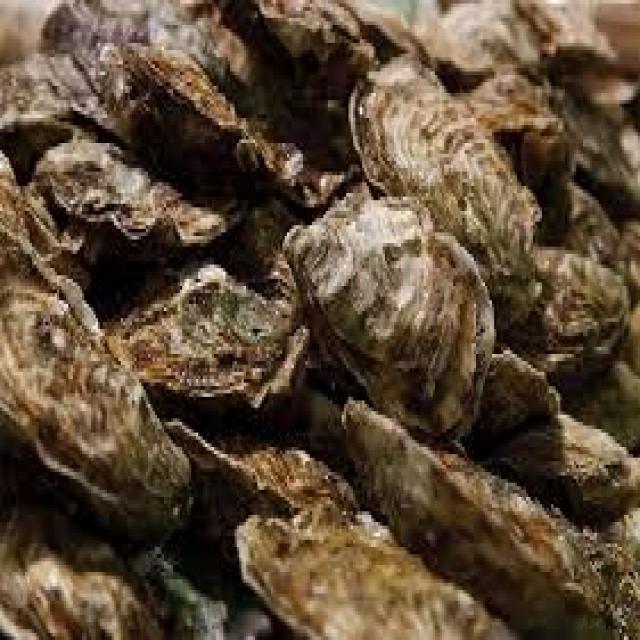Oyster- Indeterminate: (341, 400, 581, 631), (286, 185, 494, 437), (146, 386, 376, 558), (238, 515, 514, 640), (452, 241, 640, 410), (112, 260, 309, 408), (0, 475, 157, 640), (543, 81, 640, 188), (469, 349, 559, 456), (237, 194, 321, 308), (510, 0, 640, 64), (539, 172, 626, 261), (460, 70, 546, 143), (615, 218, 640, 290)
Oyster-Closed: (0, 268, 190, 538), (350, 58, 539, 274), (35, 129, 225, 246), (471, 411, 640, 531), (257, 0, 375, 103), (130, 45, 248, 137)
Oyster-Open: (340, 0, 433, 70)
